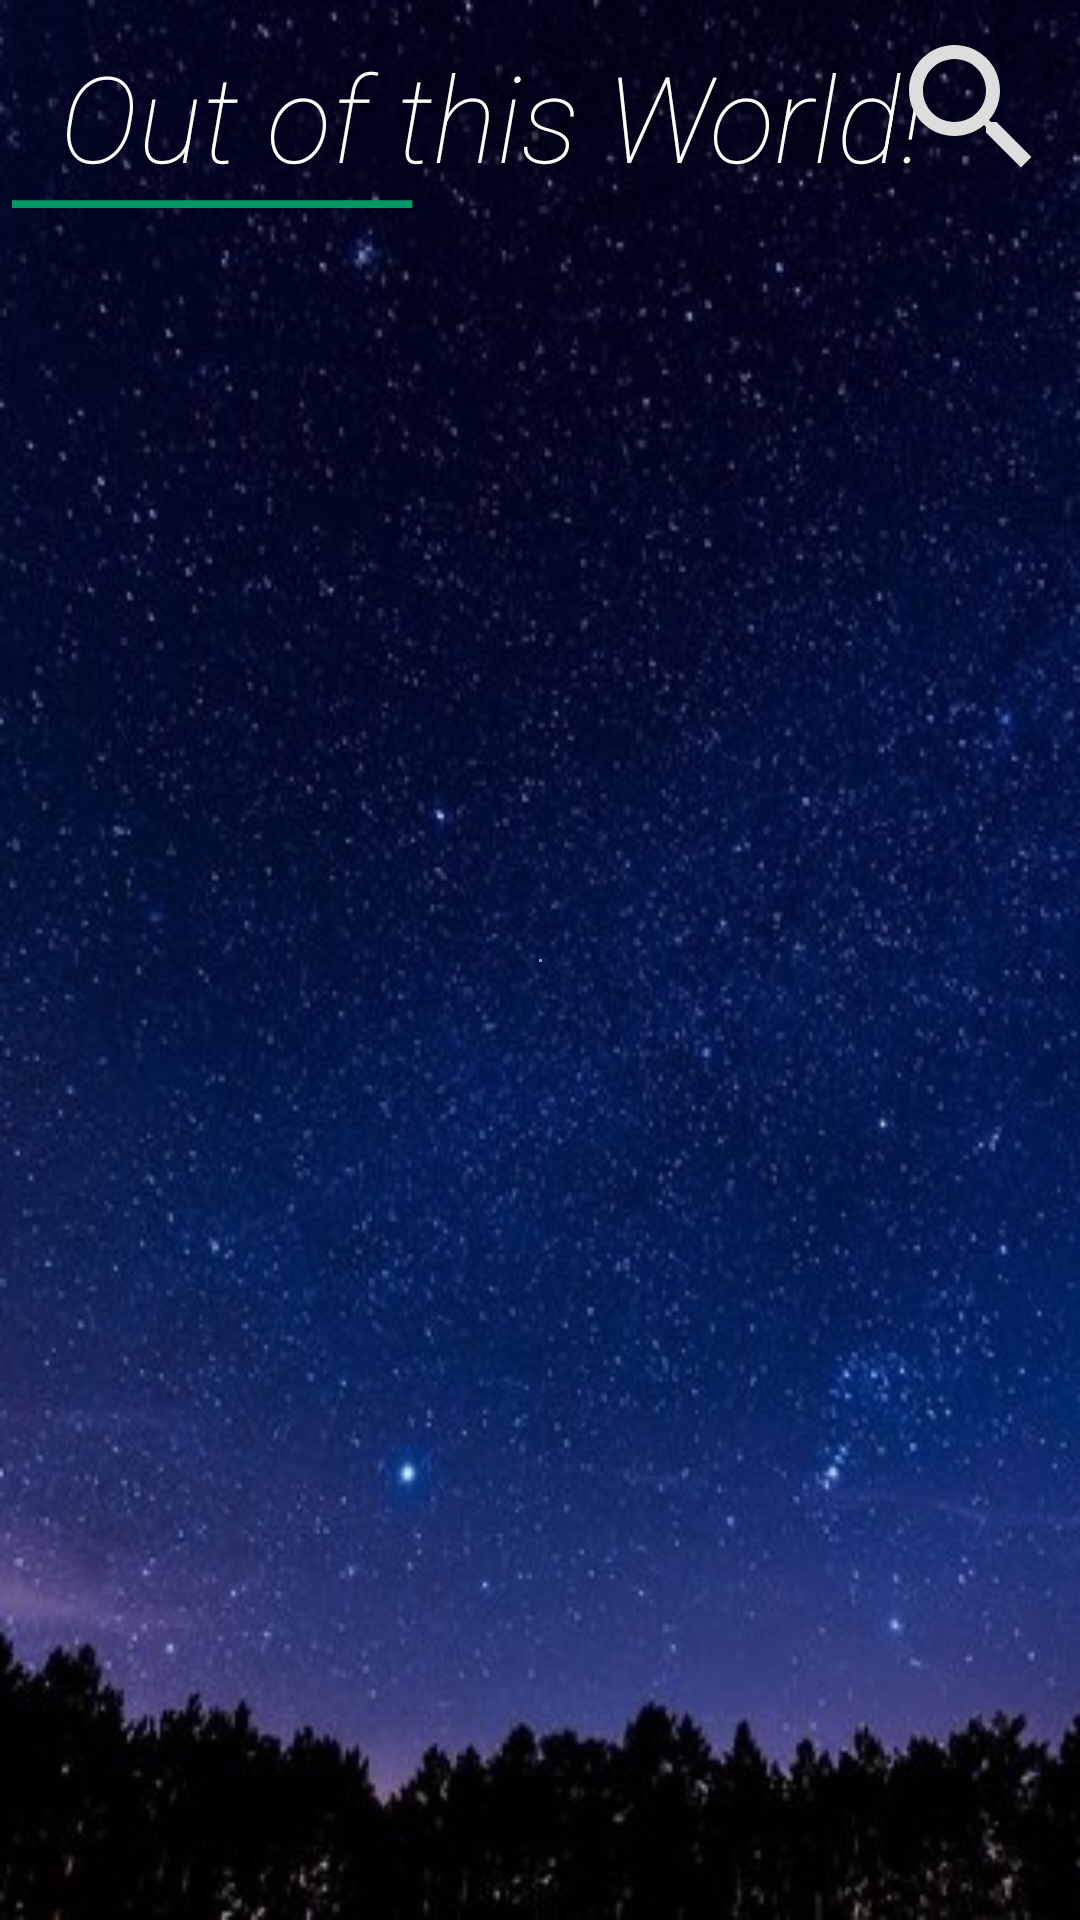

Where to tap for icons on this 1080*1920 app screen, as [x,y]:
search bt: [972,108]
